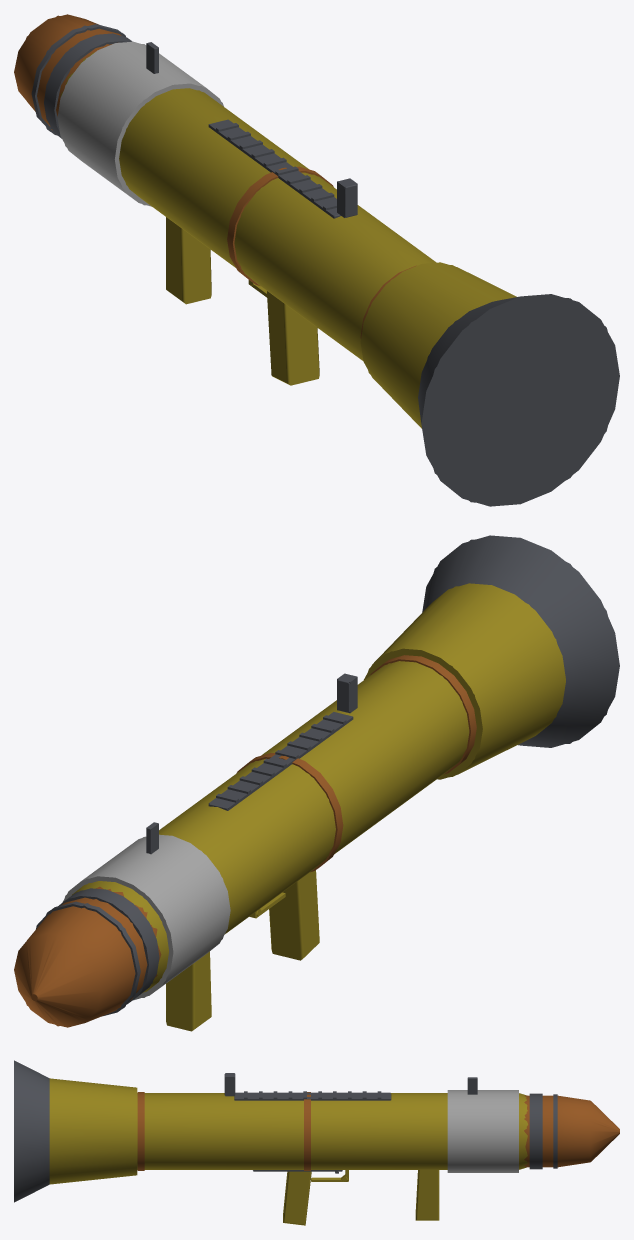
Rendered from la_thermo.glb.
3 renders of one model, top to bottom at view 1: azimuth 30°, elevation 25°; view 2: azimuth 150°, elevation 25°; view 3: azimuth 270°, elevation 25°, orthographic. The views are drawn at different scales.
Parts seen in each view (by area): view 1: L0, L1; view 2: L0, L1; view 3: L0, L1.
Boxes of the visible parts, left/top/right/bottom form: L0: left=14, top=14, right=619, bottom=506; L1: left=25, top=15, right=618, bottom=503; L0: left=14, top=535, right=619, bottom=1031; L1: left=25, top=539, right=607, bottom=1026; L0: left=14, top=1060, right=619, bottom=1225; L1: left=14, top=1060, right=619, bottom=1202.
Size of the model in its own units: 0.2405 by 0.2872 by 1.02.
